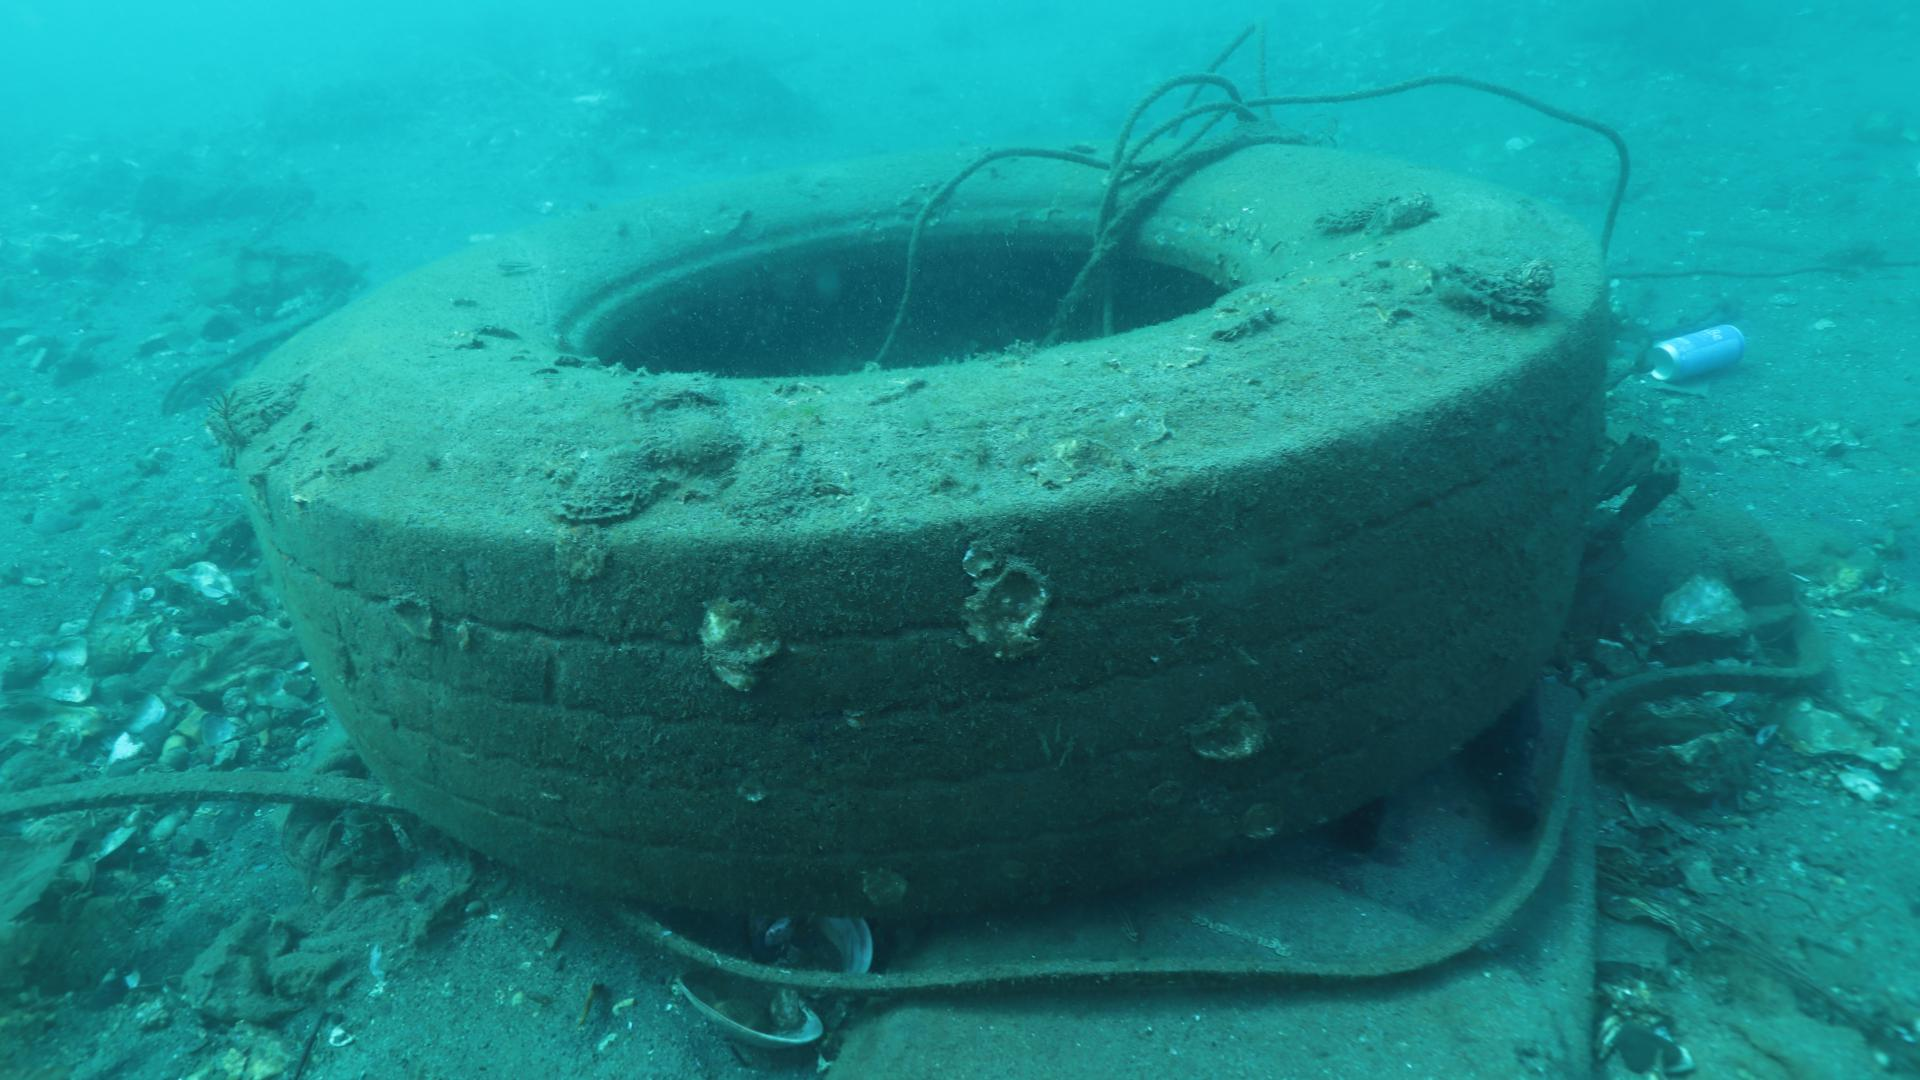bundle of ropes: (872, 18, 1633, 367)
tire: (225, 141, 1607, 907)
